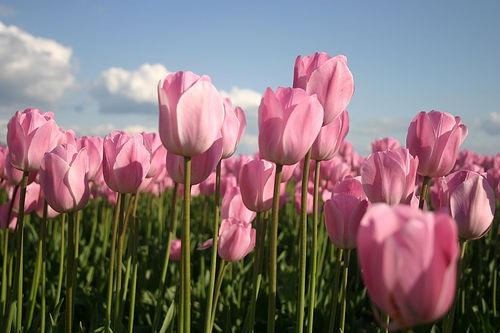tulip: (360, 202, 458, 318), (156, 70, 225, 157), (259, 86, 324, 164), (408, 108, 467, 175), (8, 107, 61, 170), (103, 129, 154, 193), (44, 145, 87, 210), (217, 218, 256, 259)
